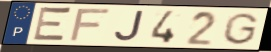2: (184, 10, 220, 47)
4: (149, 10, 178, 45)
E: (30, 5, 74, 44)
F: (67, 7, 114, 43)
G: (220, 11, 261, 46)
J: (112, 9, 145, 43)
